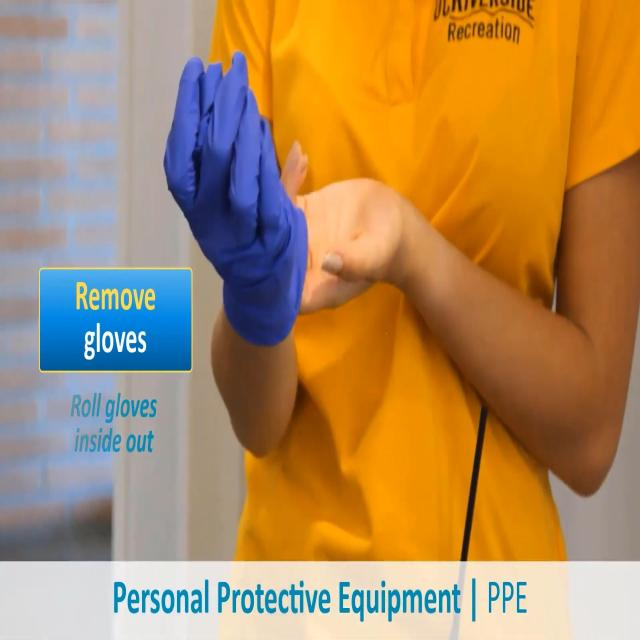Gloves: (169, 52, 312, 361)
